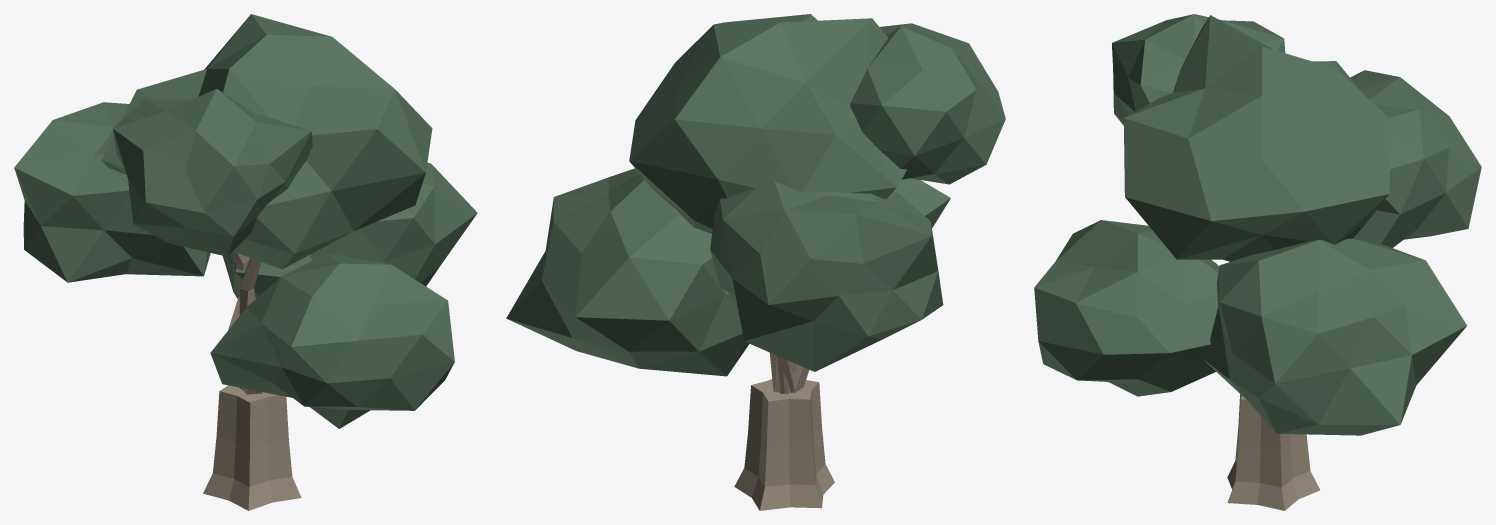
File: tree_yew.glb
The picture shows the model from 3 angles, left to right: view 1: azimuth 30°, elevation 25°; view 2: azimuth 150°, elevation 25°; view 3: azimuth 270°, elevation 25°; orthographic projection. The views are drawn at different scales.
Parts seen in each view (by area): view 1: tree_yew; view 2: tree_yew; view 3: tree_yew.
Part boxes in pixels (x1,y1,x2,y2): tree_yew: (14, 14, 477, 510); tree_yew: (506, 14, 1005, 510); tree_yew: (1034, 14, 1481, 510).
Size of the model in its own units: 6.73 by 7 by 6.32.
